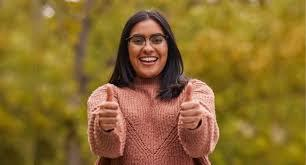sunglasses: (128, 31, 167, 48)
